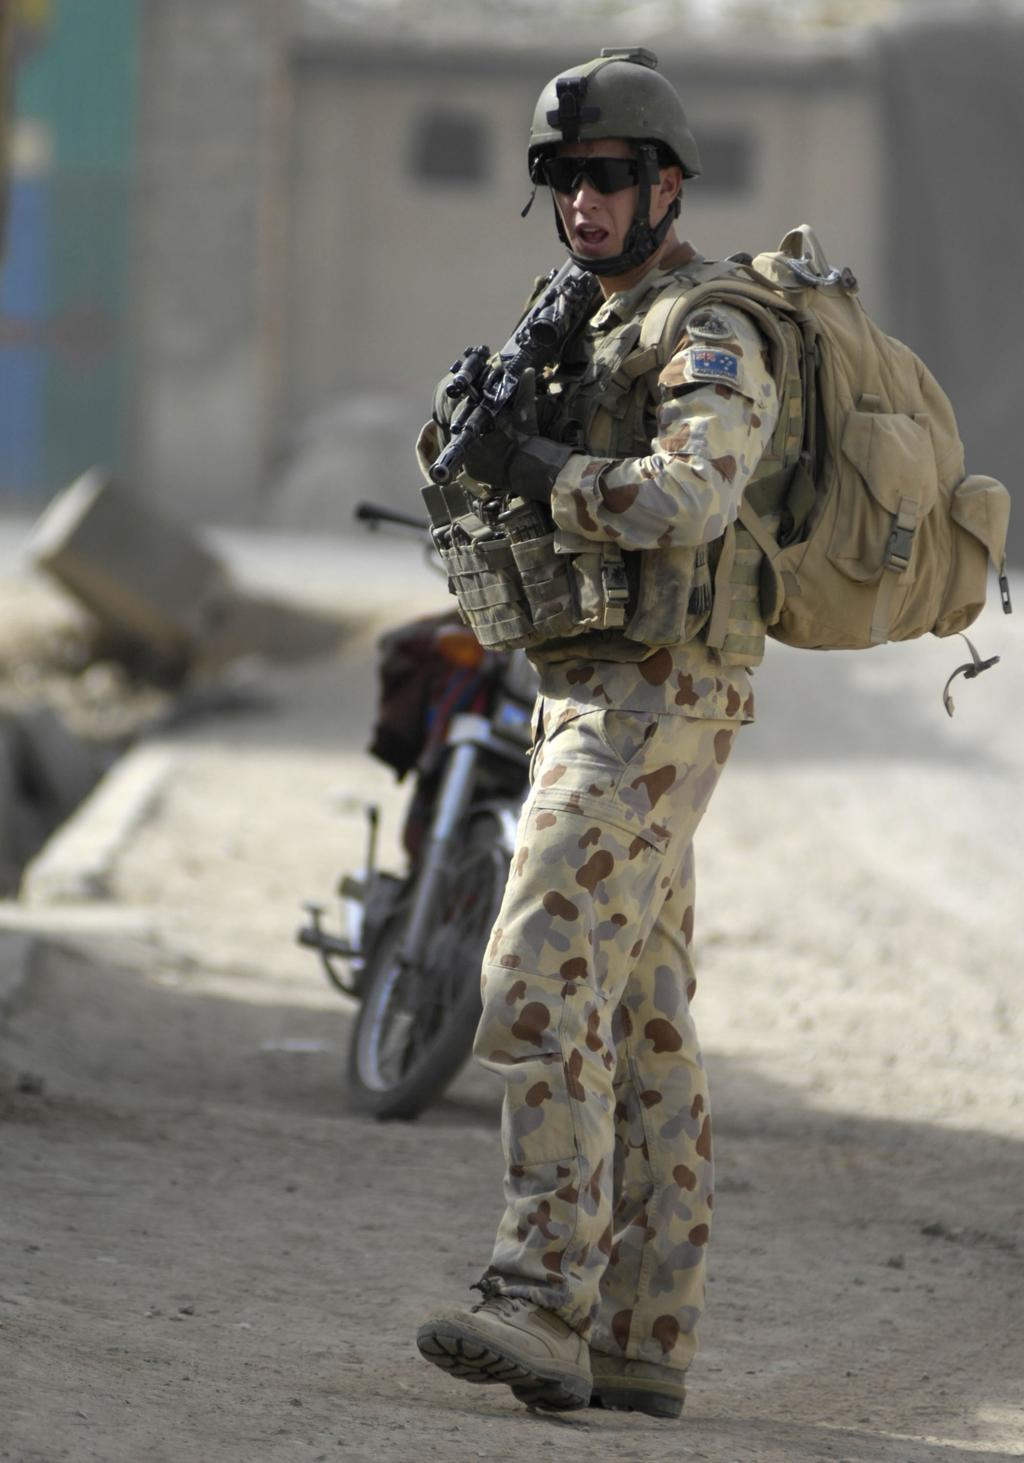face: (550, 127, 664, 273)
